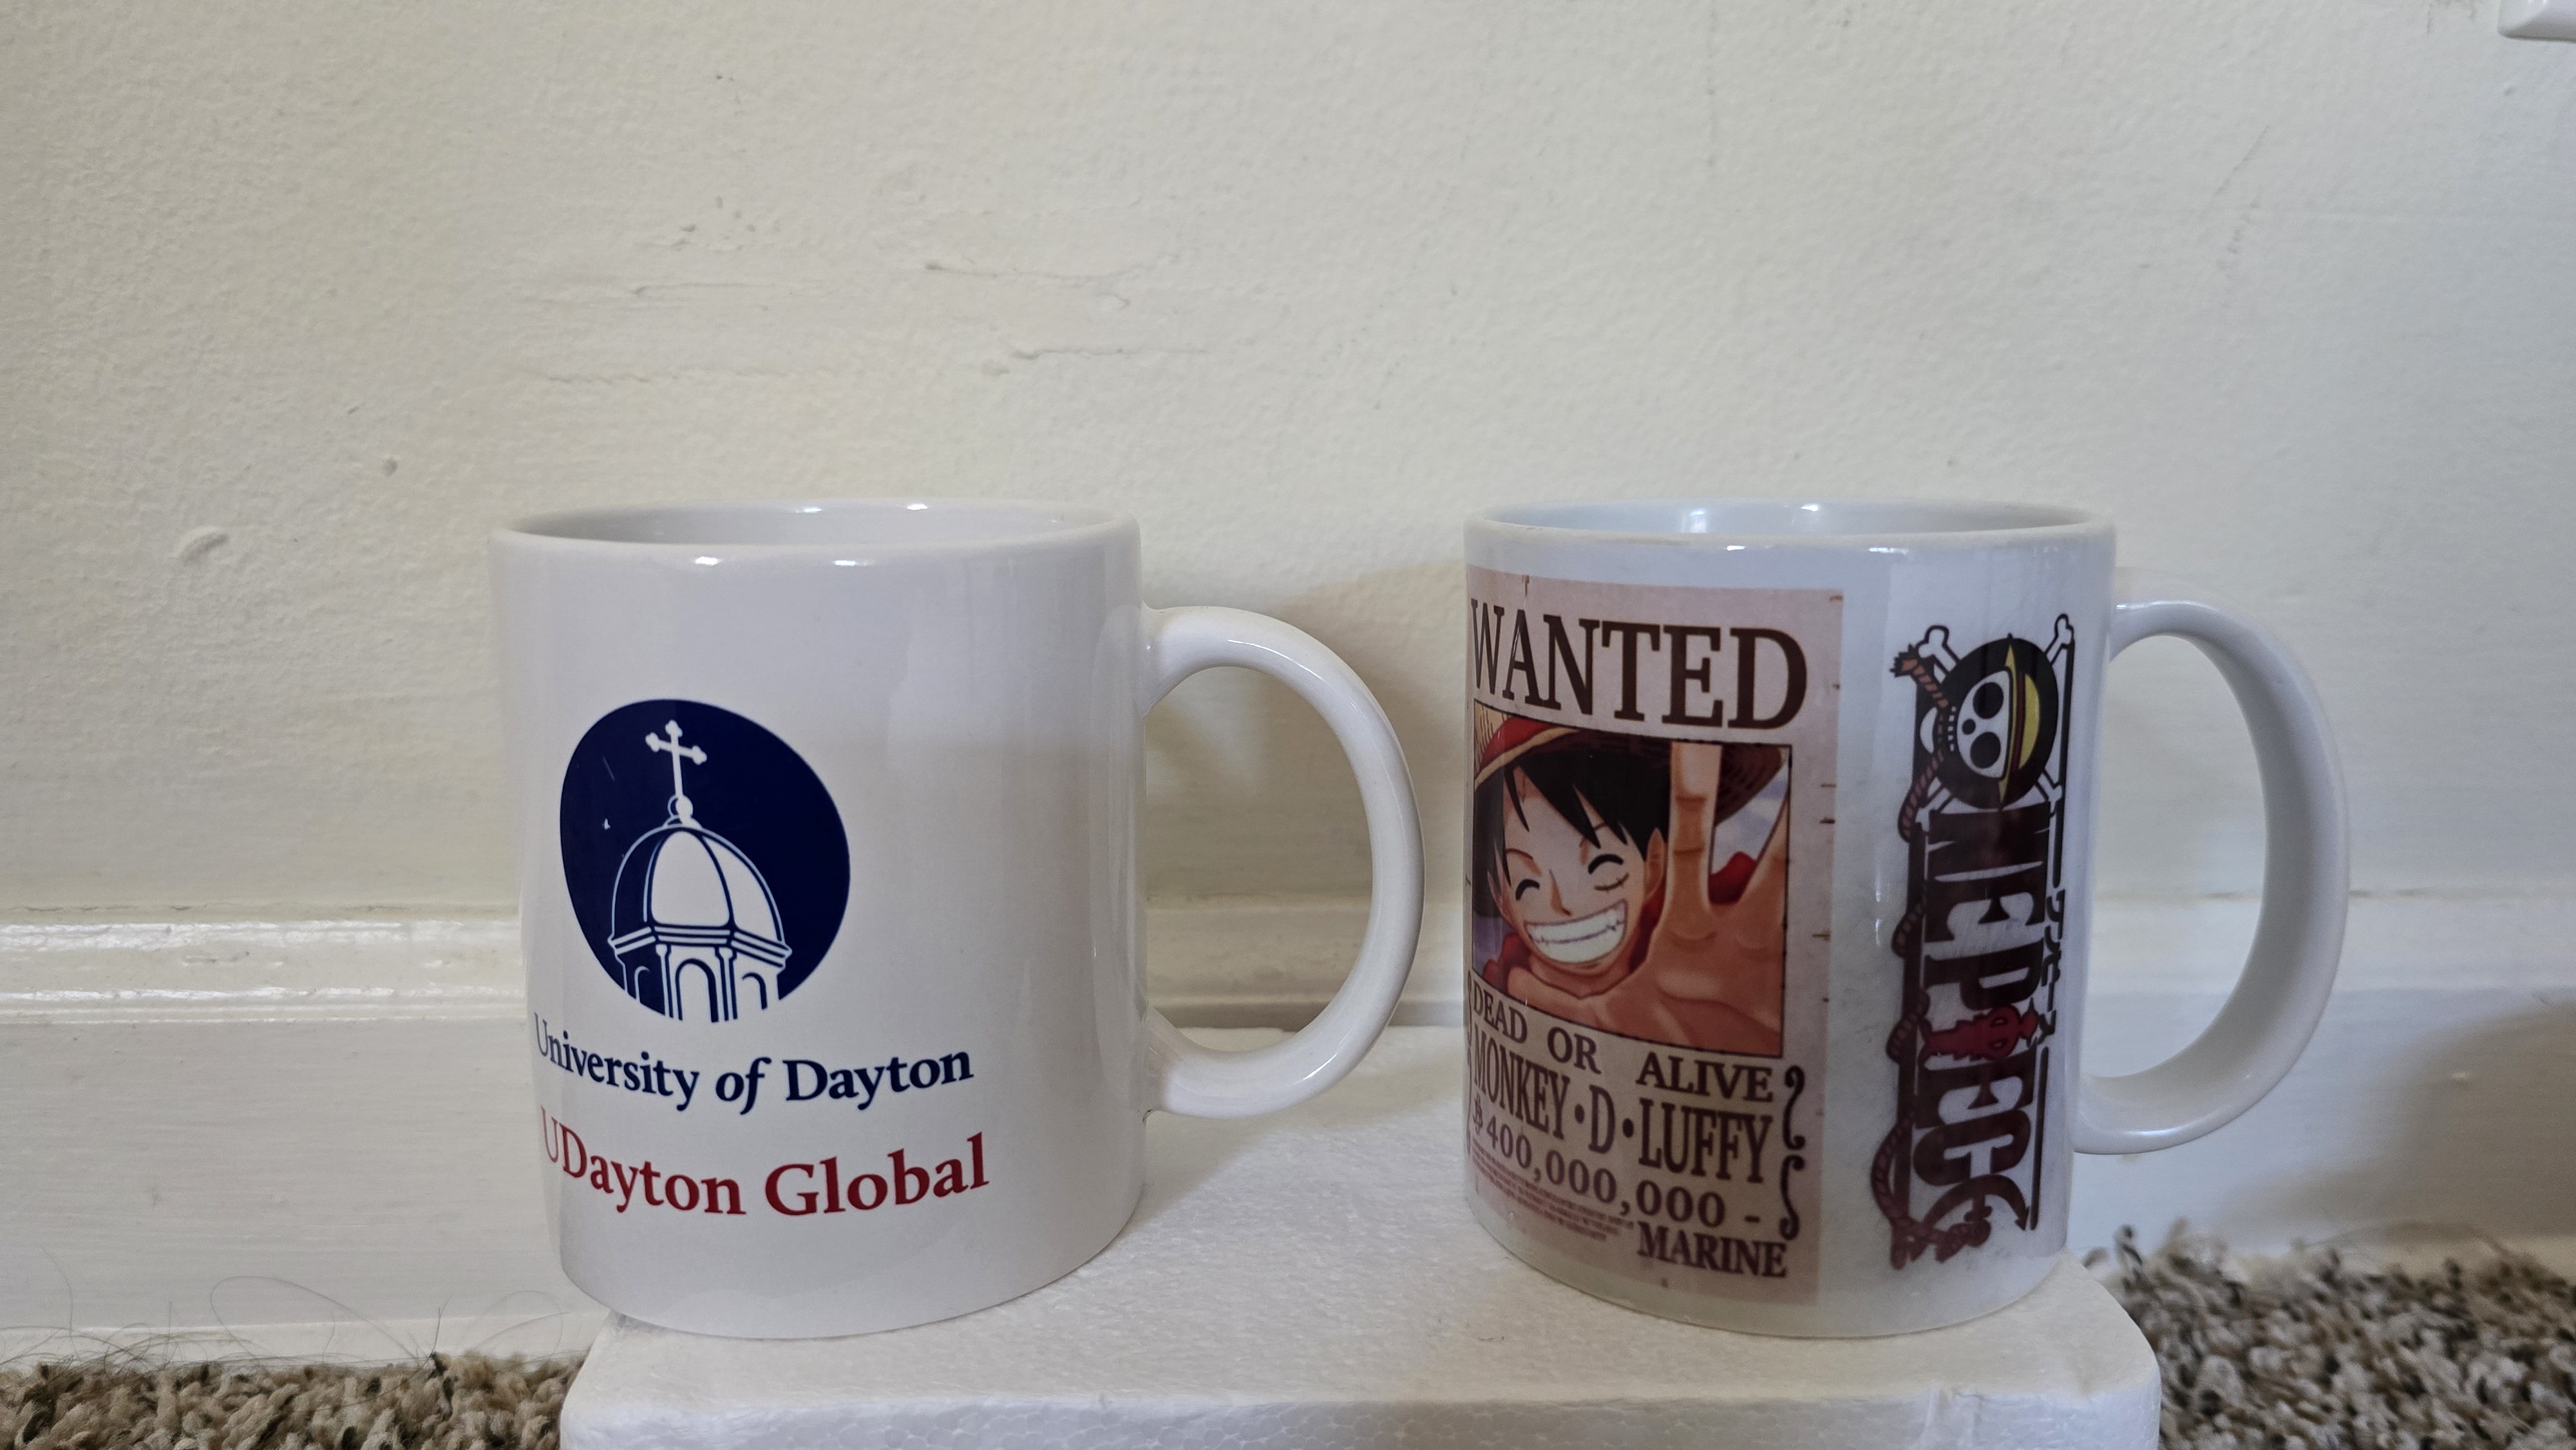mug: (1376, 350, 2452, 1374), (448, 393, 1440, 1360)
